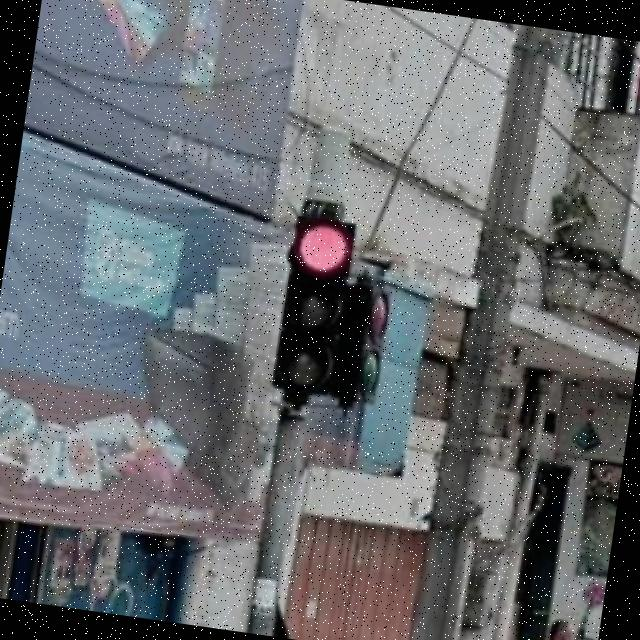Czerwone swiatlo: (270, 212, 354, 393)
